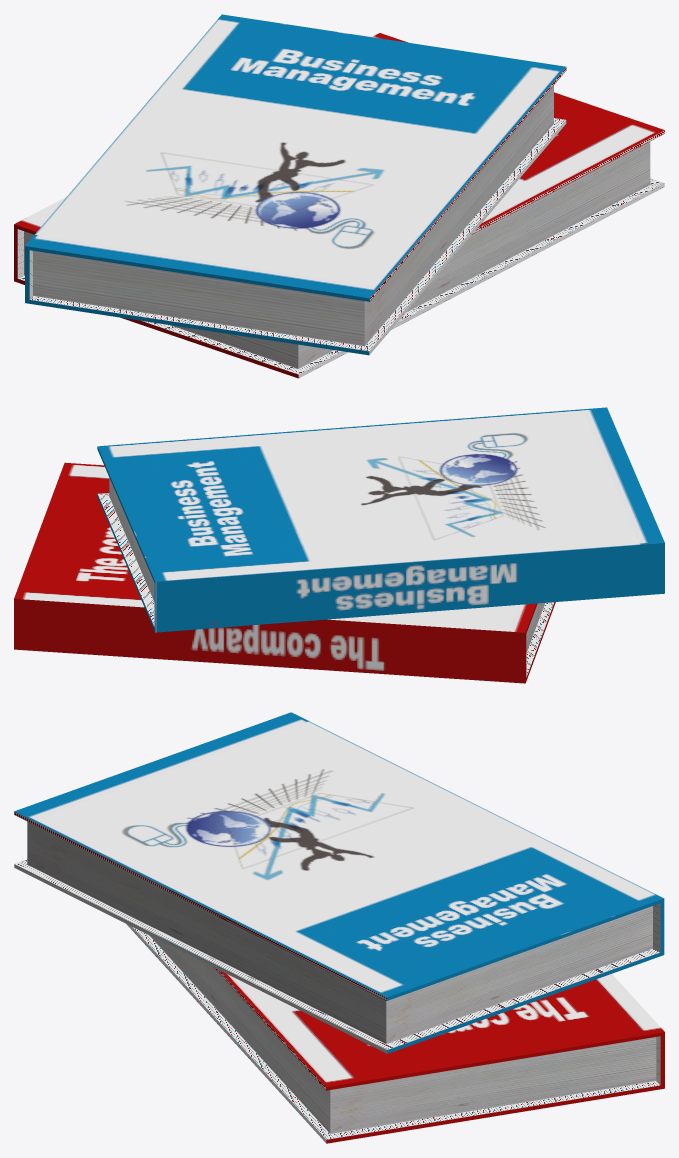
File: Books.FBX
3 views of the same model, one above another, from view 1: azimuth 30°, elevation 25°; view 2: azimuth 150°, elevation 25°; view 3: azimuth 270°, elevation 25° (orthographic). The views are drawn at different scales.
Visible parts, largest first — view 1: Book 1, Book 2; view 2: Book 1, Book 2; view 3: Book 1, Book 2.
Boxes of the visible parts, bbox=[...] form: Book 1: bbox=[25, 14, 566, 355]; Book 2: bbox=[14, 33, 664, 378]; Book 1: bbox=[97, 407, 664, 632]; Book 2: bbox=[14, 462, 555, 683]; Book 1: bbox=[14, 712, 664, 1053]; Book 2: bbox=[126, 924, 664, 1143].
Bounding box in the file's own units: 315 × 272 × 52.41.
1 material, 1 textured.
